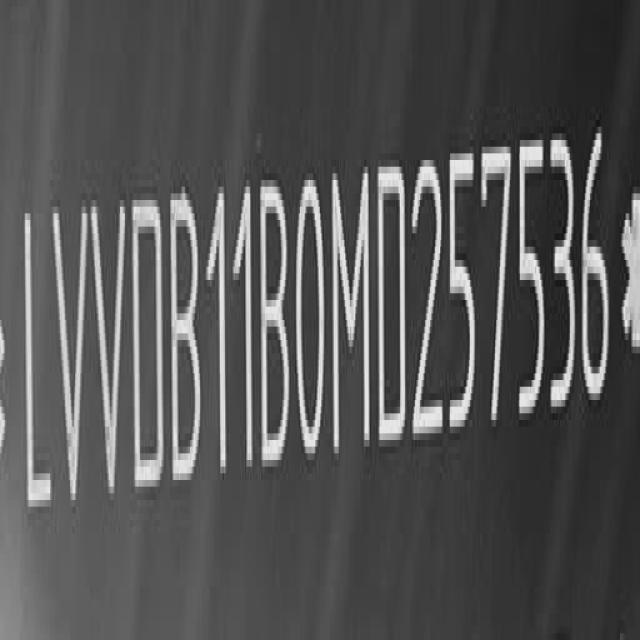0: (296, 169, 330, 471)
1: (208, 184, 232, 487), (235, 175, 256, 488)
2: (411, 153, 446, 456)
3: (546, 123, 578, 431)
5: (448, 145, 480, 445), (516, 130, 548, 430)
6: (581, 119, 616, 406)
7: (482, 140, 513, 438)
B: (171, 186, 205, 493), (260, 173, 292, 476)
D: (132, 188, 168, 500), (376, 158, 411, 460)
L: (20, 201, 54, 530)
M: (331, 162, 373, 468)
V: (52, 195, 90, 520), (92, 192, 130, 515)
